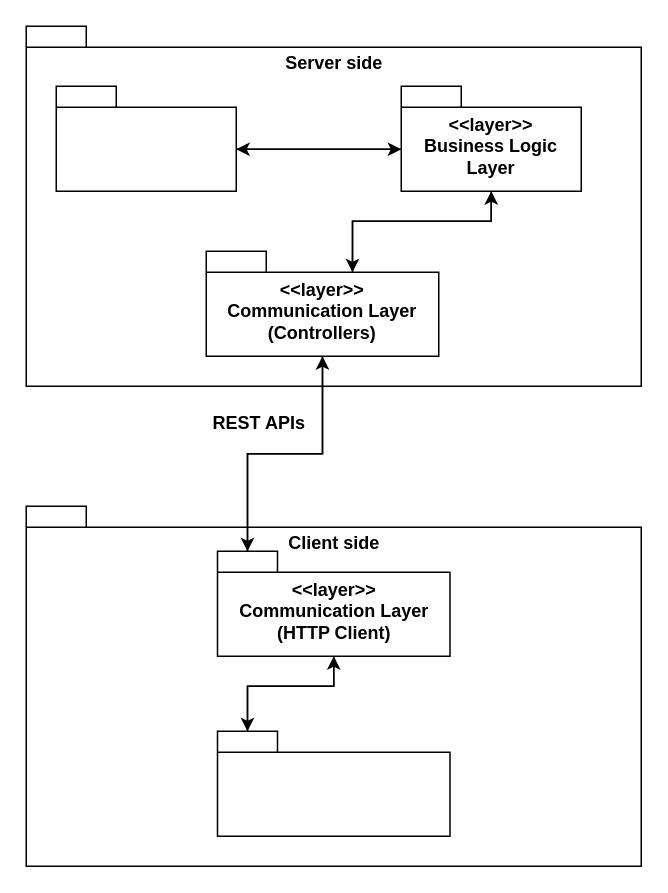
This 668x893 diagram has some shape labels left out. The box of each missing label's shape, as (x1, y1, x2, y2) in pixels:
<<layer>> Data Access Layer: (55, 85, 236, 191)
<<layer>> Presentation Layer: (216, 730, 450, 836)
